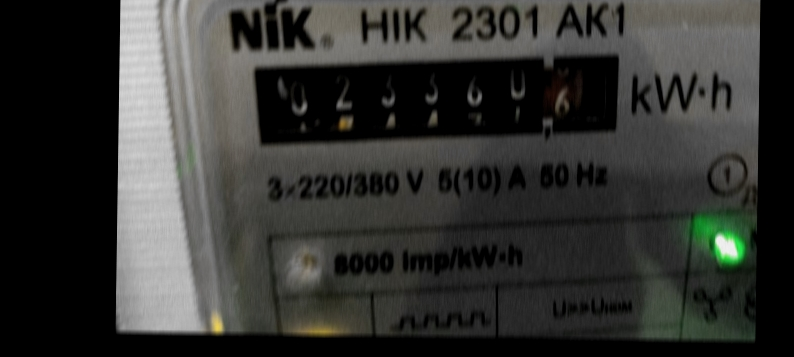0: (287, 75, 313, 117), (508, 63, 531, 100)
2: (331, 69, 358, 110)
3: (378, 68, 400, 108), (420, 67, 443, 105)
6: (462, 67, 489, 109), (554, 83, 576, 119)
screen: (233, 35, 635, 159)
